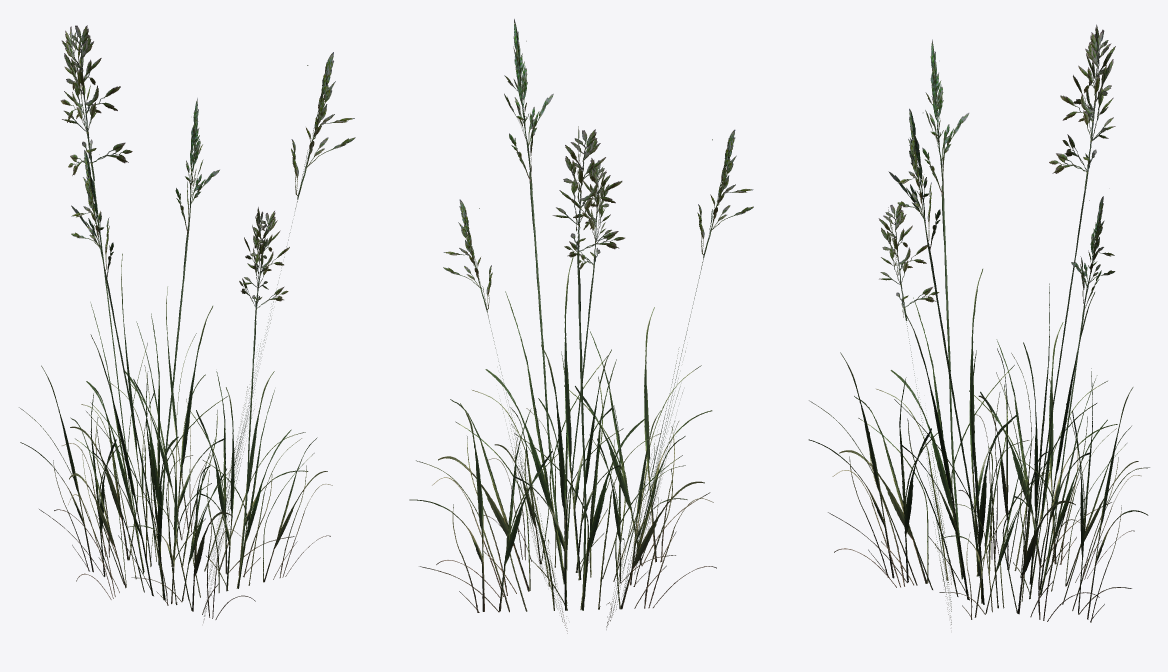
Rendered from Alpine_bluegrass.fbx.
3 renders of one model, left to right at view 1: azimuth 30°, elevation 25°; view 2: azimuth 150°, elevation 25°; view 3: azimuth 270°, elevation 25°, orthographic. The views are drawn at different scales.
Visible parts, largest first — view 1: Alpine_bluegrass; view 2: Alpine_bluegrass; view 3: Alpine_bluegrass.
Boxes of the visible parts, x1=… form: Alpine_bluegrass: x1=19, y1=25, x2=355, y2=622; Alpine_bluegrass: x1=409, y1=19, x2=753, y2=633; Alpine_bluegrass: x1=808, y1=24, x2=1149, y2=624.
Size of the model in its own units: 450 by 764 by 440.
